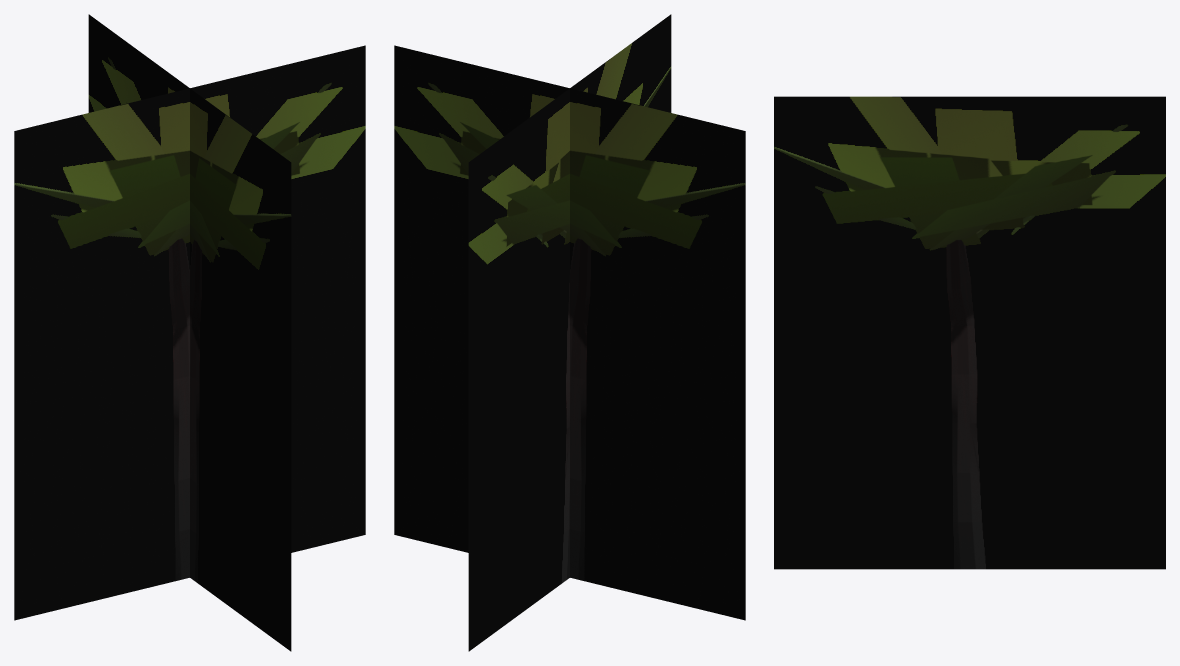
Rendered from jungle_palm_a1_card.glb.
3 renders of one model, left to right at view 1: azimuth 30°, elevation 25°; view 2: azimuth 150°, elevation 25°; view 3: azimuth 270°, elevation 25°, orthographic. The views are drawn at different scales.
Visible parts, largest first — view 1: jungle_palm_a1_card; view 2: jungle_palm_a1_card; view 3: jungle_palm_a1_card.
Boxes of the visible parts, box(x1,y1,x2,y2) form: jungle_palm_a1_card: box(14, 14, 365, 651); jungle_palm_a1_card: box(394, 14, 745, 651); jungle_palm_a1_card: box(774, 96, 1165, 569).
Bounding box in the file's own units: 3.85 × 5.13 × 3.85.
1 material, 1 textured.
